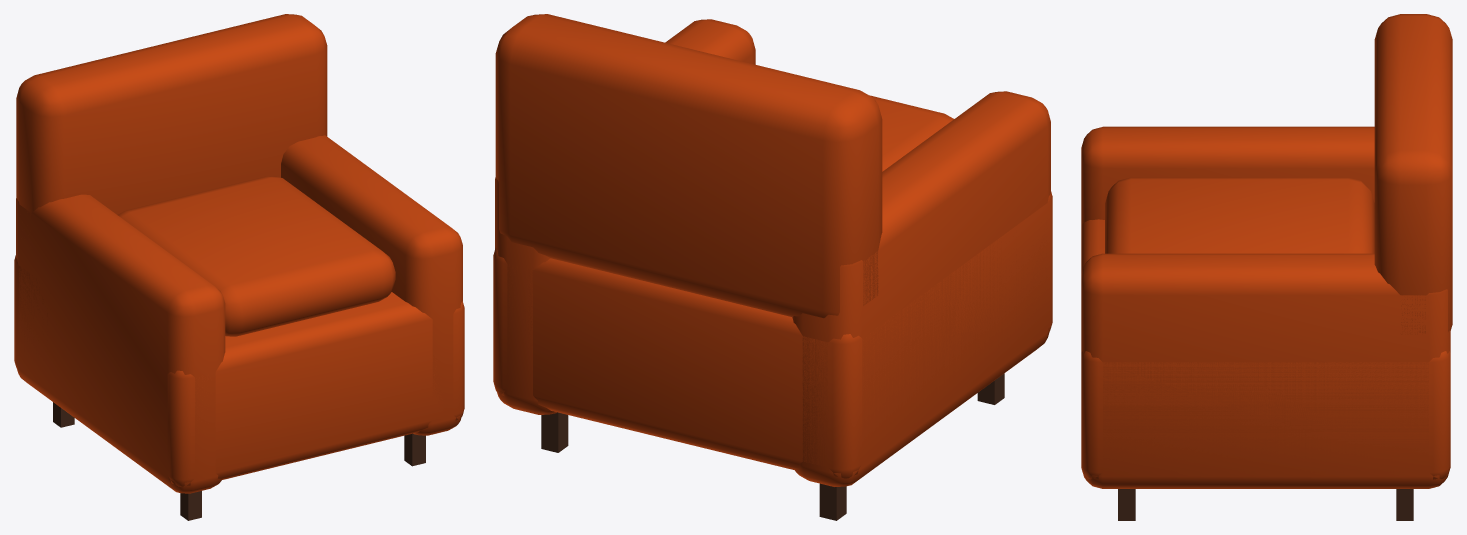
Rendered from fur_armchair_ankara.glb.
The picture shows the model from 3 angles, left to right: view 1: azimuth 30°, elevation 25°; view 2: azimuth 150°, elevation 25°; view 3: azimuth 270°, elevation 25°; orthographic projection. The views are drawn at different scales.
Parts seen in each view (by area): view 1: FUR_armchair_ankara; view 2: FUR_armchair_ankara; view 3: FUR_armchair_ankara.
Part boxes in pixels (<box>): FUR_armchair_ankara: <box>14,14,464,520</box>; FUR_armchair_ankara: <box>493,14,1052,520</box>; FUR_armchair_ankara: <box>1081,14,1452,520</box>.
Size of the model in its own units: 0.85 by 0.95 by 0.855.
1 material, 1 textured.
